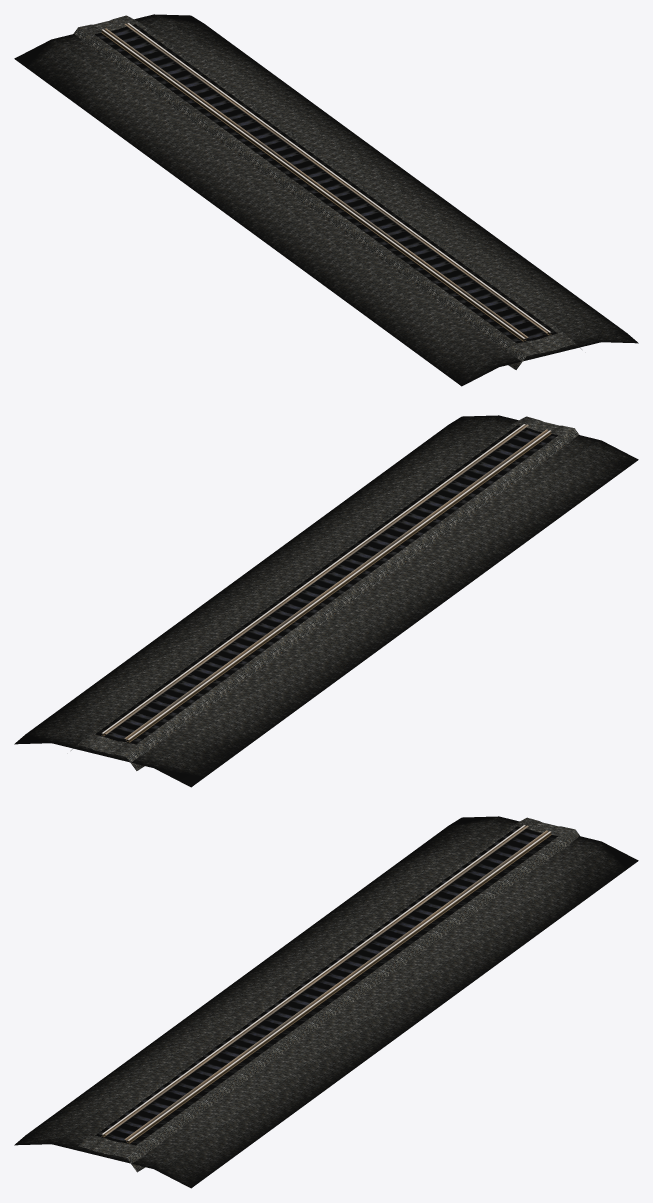
The model's file is TOB_1RAIL_100G.glb.
The picture shows the model from 3 angles, top to bottom: view 1: azimuth 30°, elevation 25°; view 2: azimuth 150°, elevation 25°; view 3: azimuth 330°, elevation 25°; orthographic projection.
Visible parts, largest first — view 1: obj1, R000_RG_R, R000_RG_L; view 2: obj1, R000_RG_R, R000_RG_L; view 3: obj1, R000_RG_L, R000_RG_R.
Part boxes in pixels (x1=…): obj1: x1=14, y1=14, x2=638, y2=386; R000_RG_R: x1=104, y1=28, x2=528, y2=339; R000_RG_L: x1=124, y1=23, x2=547, y2=333; obj1: x1=14, y1=415, x2=638, y2=787; R000_RG_R: x1=124, y1=429, x2=548, y2=740; R000_RG_L: x1=104, y1=424, x2=528, y2=735; obj1: x1=14, y1=816, x2=638, y2=1188; R000_RG_L: x1=124, y1=830, x2=548, y2=1141; R000_RG_R: x1=105, y1=825, x2=528, y2=1135.
Bounding box in the file's own units: 24.42 × 2.65 × 106.
6 materials, 6 textured.
